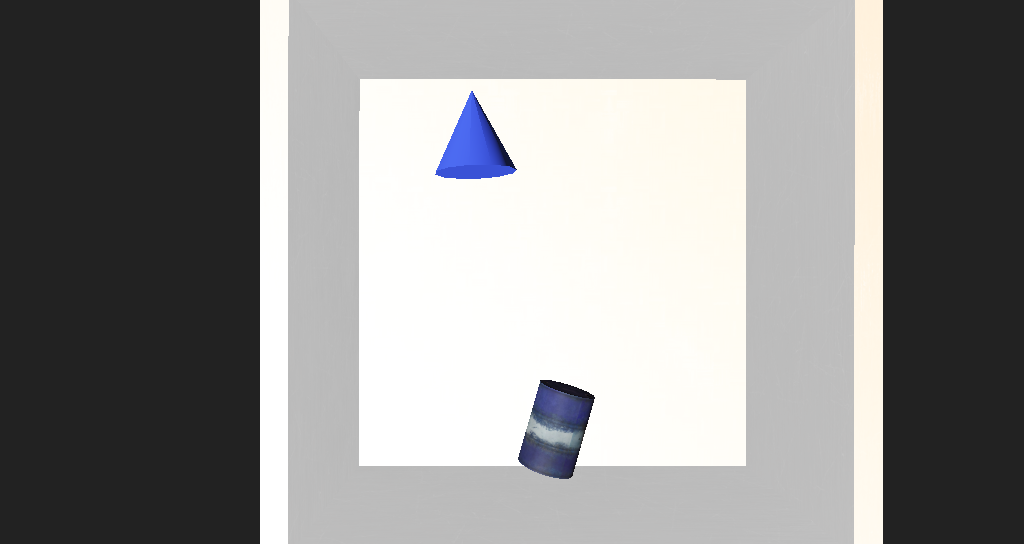cone: (482, 324, 542, 382)
cylinder: (408, 165, 482, 217)
sphere: (482, 410, 569, 468)
